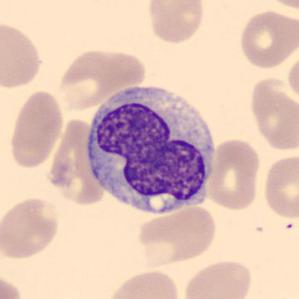Monocyte: (80, 79, 219, 223)
RBC: (55, 46, 145, 111), (134, 202, 219, 269), (50, 118, 107, 205), (6, 88, 66, 170), (204, 137, 264, 212), (0, 195, 62, 261), (247, 75, 298, 153), (237, 8, 297, 70), (0, 18, 45, 90), (181, 258, 255, 299), (145, 0, 206, 45), (260, 152, 299, 220), (103, 267, 183, 299), (286, 52, 298, 104), (0, 272, 23, 298), (262, 0, 299, 10)
